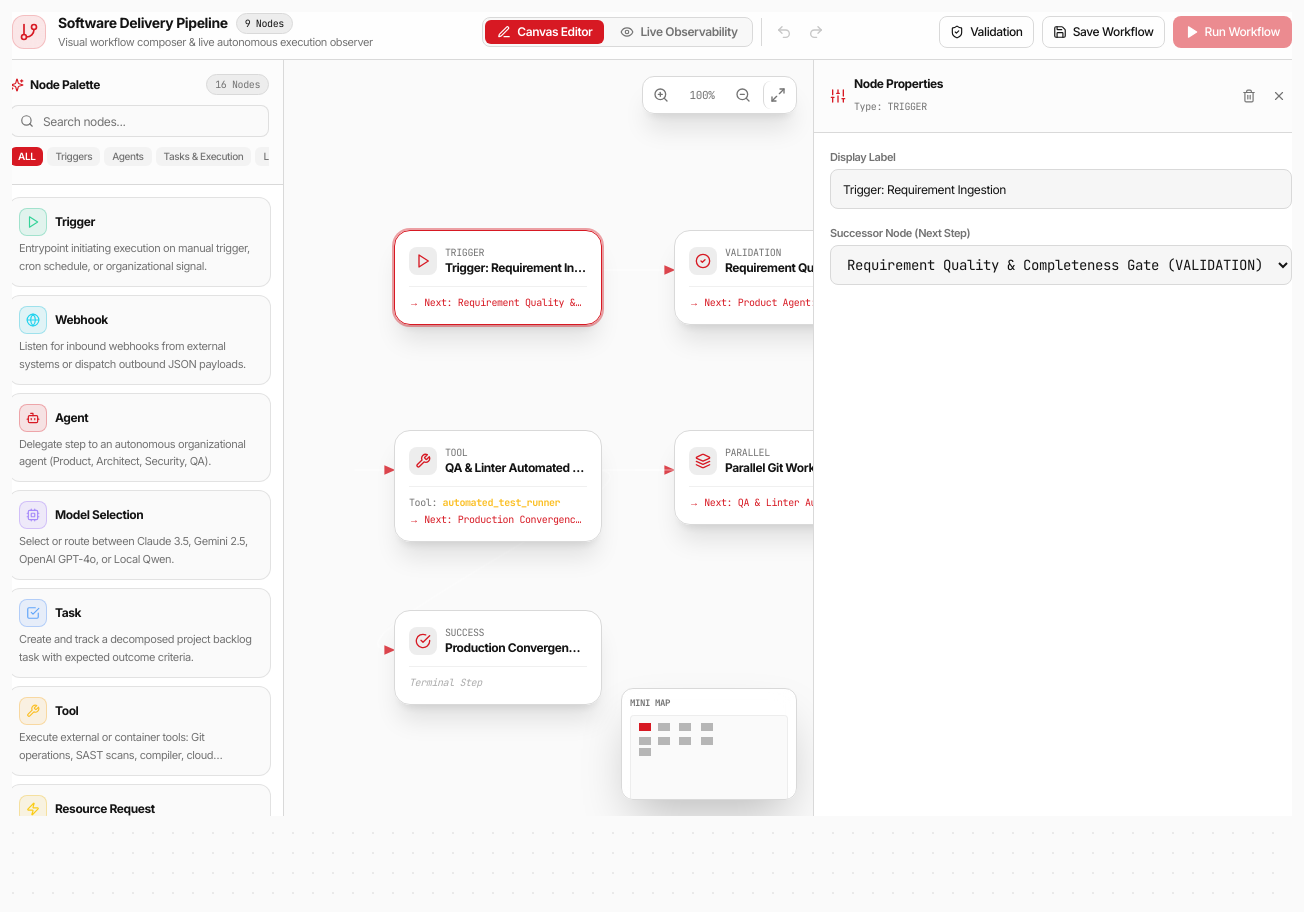
Test: Visual Workflow Editor & Observability Canvas › opens Validation Panel and checks workflow graph topology
Expected: the text "Software Delivery Pipeline" is shown, [58,13,228,33]
Click the button "Validation" at {"x": 986, "y": 32}, box [939,16,1034,48]
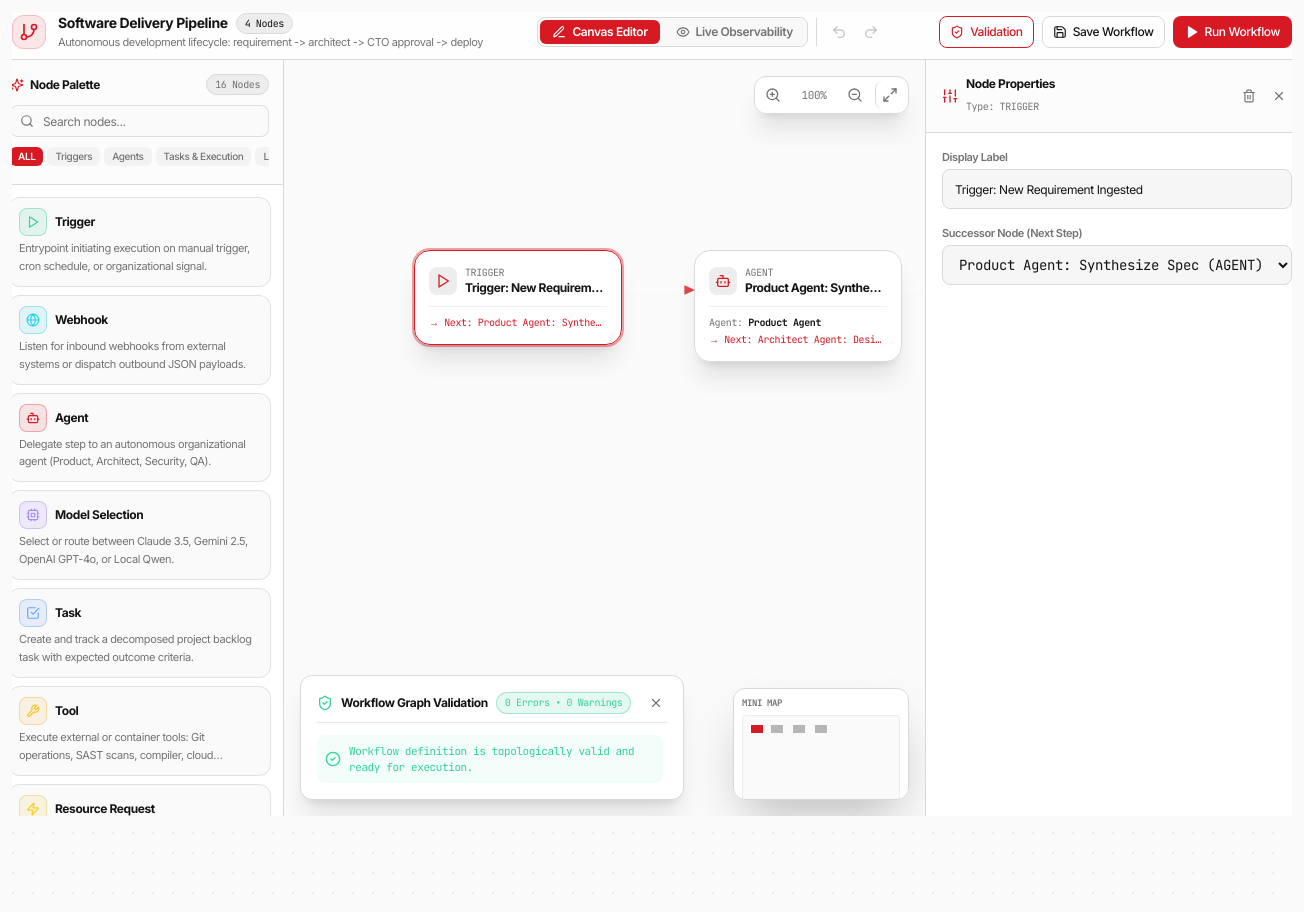
Result: the text "Workflow Graph Validation" is shown at [341,695,488,711]
